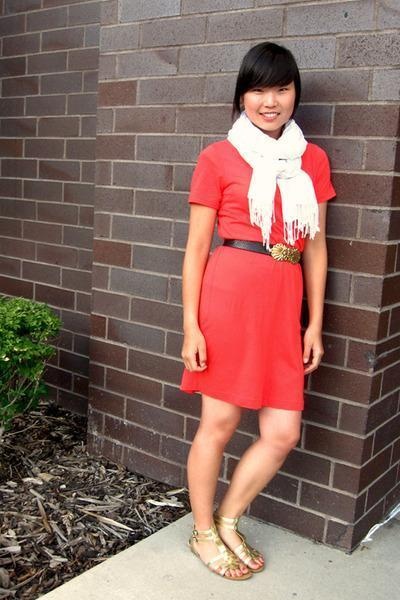dress: (180, 139, 335, 411)
shoe: (213, 549, 250, 580)
